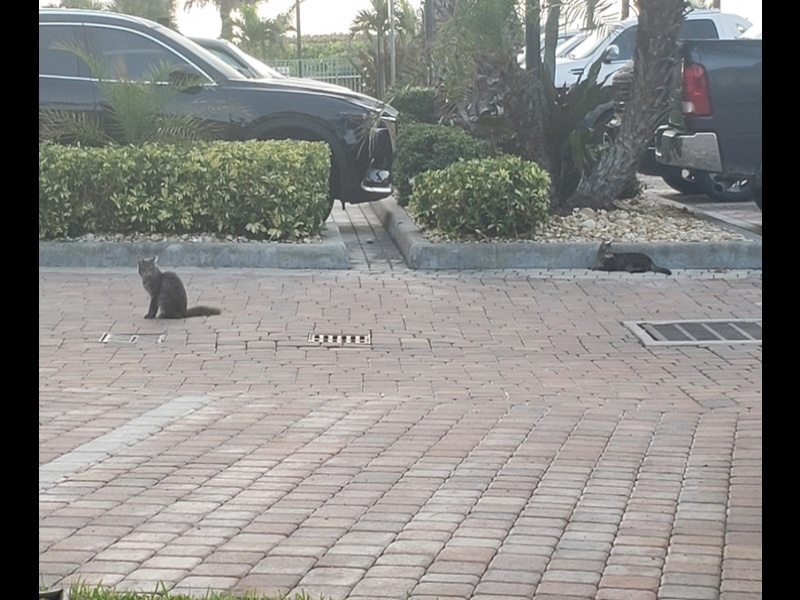cat: (135, 255, 222, 322), (589, 239, 676, 279)
